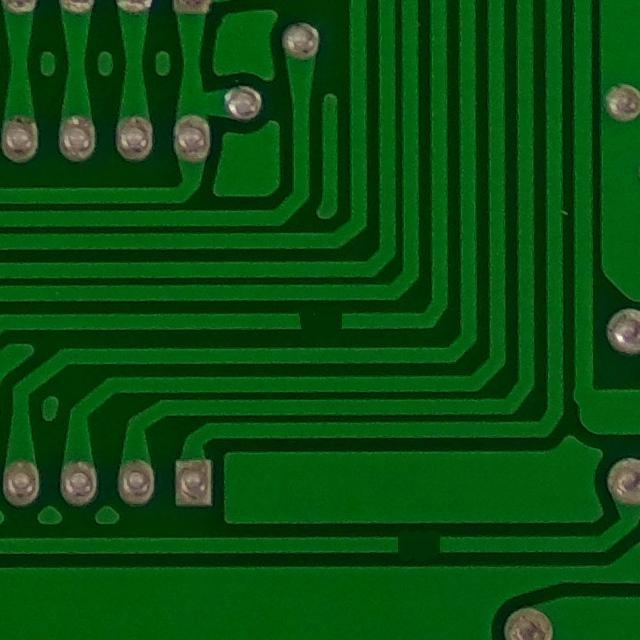open_circuit: (284, 304, 356, 336)
